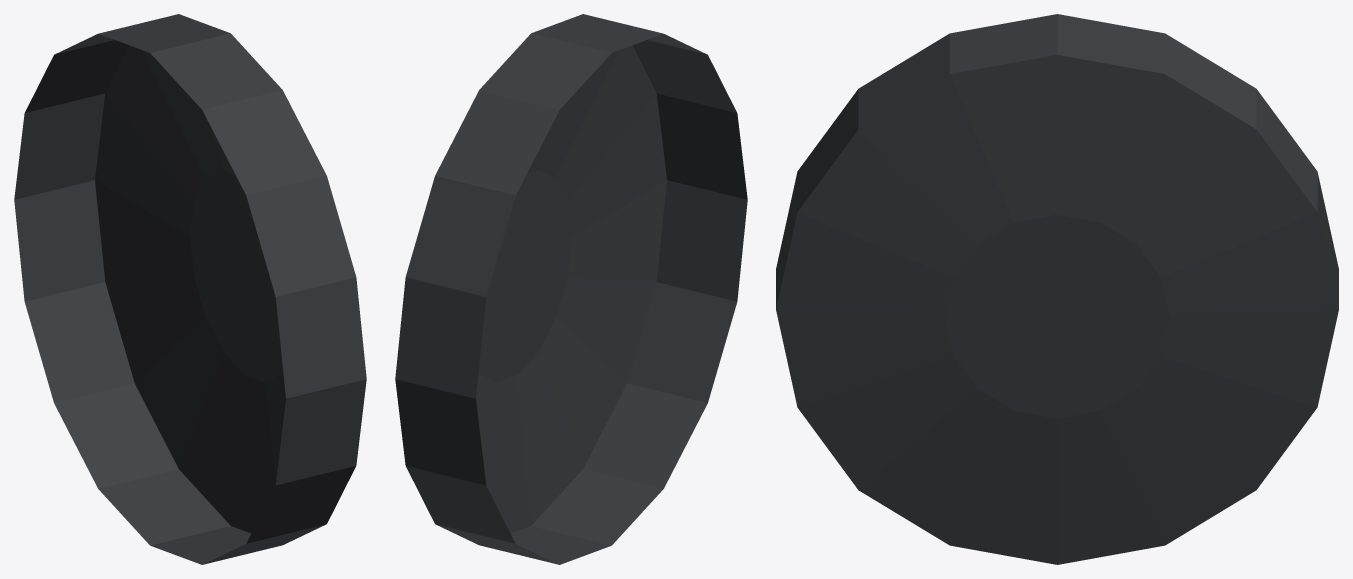
File: brake_01_classic_drum.obj
3 views of the same model, side by side, from view 1: azimuth 30°, elevation 25°; view 2: azimuth 150°, elevation 25°; view 3: azimuth 270°, elevation 25° (orthographic). The views are drawn at different scales.
Visible parts, largest first — view 1: brake_01_classic_drum; view 2: brake_01_classic_drum; view 3: brake_01_classic_drum.
Part boxes in pixels (x1,y1,x2,y2): brake_01_classic_drum: [14, 14, 366, 564]; brake_01_classic_drum: [395, 14, 747, 564]; brake_01_classic_drum: [776, 14, 1338, 564].
Size of the model in its own units: 0.0875 by 0.4375 by 0.4375.
